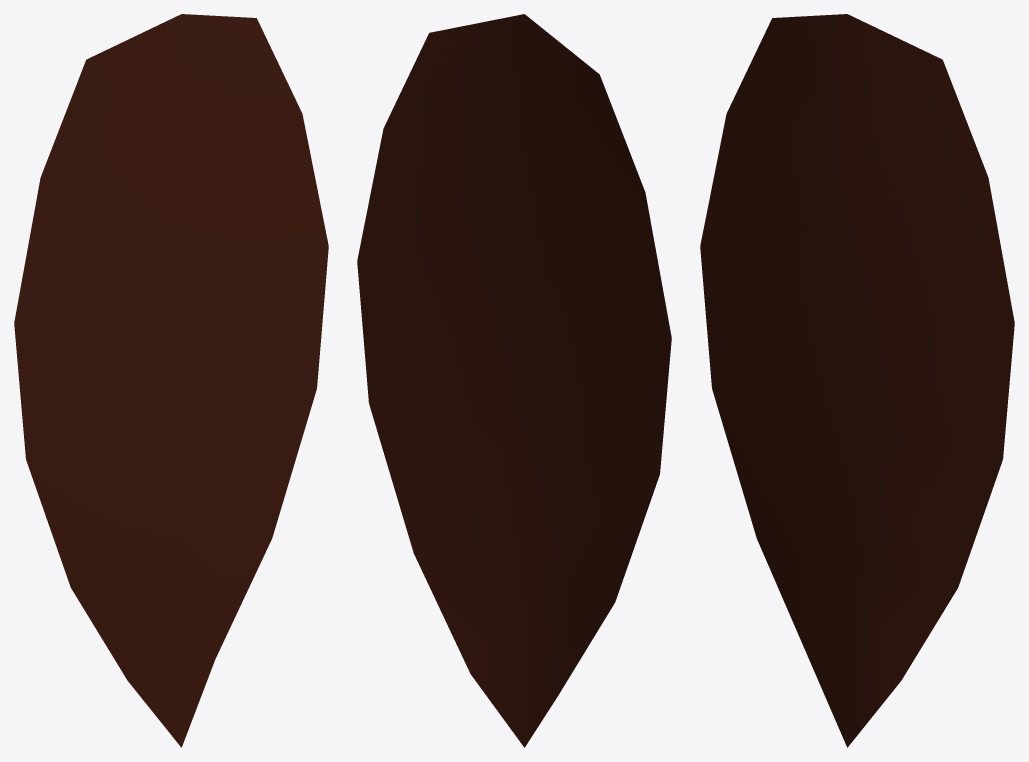
Rendered from rooster_feather_flight_tertiary_003.obj.
3 renders of one model, left to right at view 1: azimuth 30°, elevation 25°; view 2: azimuth 150°, elevation 25°; view 3: azimuth 330°, elevation 25°, orthographic.
Parts seen in each view (by area): view 1: feather_flight_tertiary_003; view 2: feather_flight_tertiary_003; view 3: feather_flight_tertiary_003.
Part boxes in pixels (box(x1,y1,x2,y2)): feather_flight_tertiary_003: box(14, 14, 328, 747); feather_flight_tertiary_003: box(357, 14, 671, 747); feather_flight_tertiary_003: box(700, 14, 1014, 747).
Size of the model in its own units: 0.00901 by 0.0201 by 0.000502.
